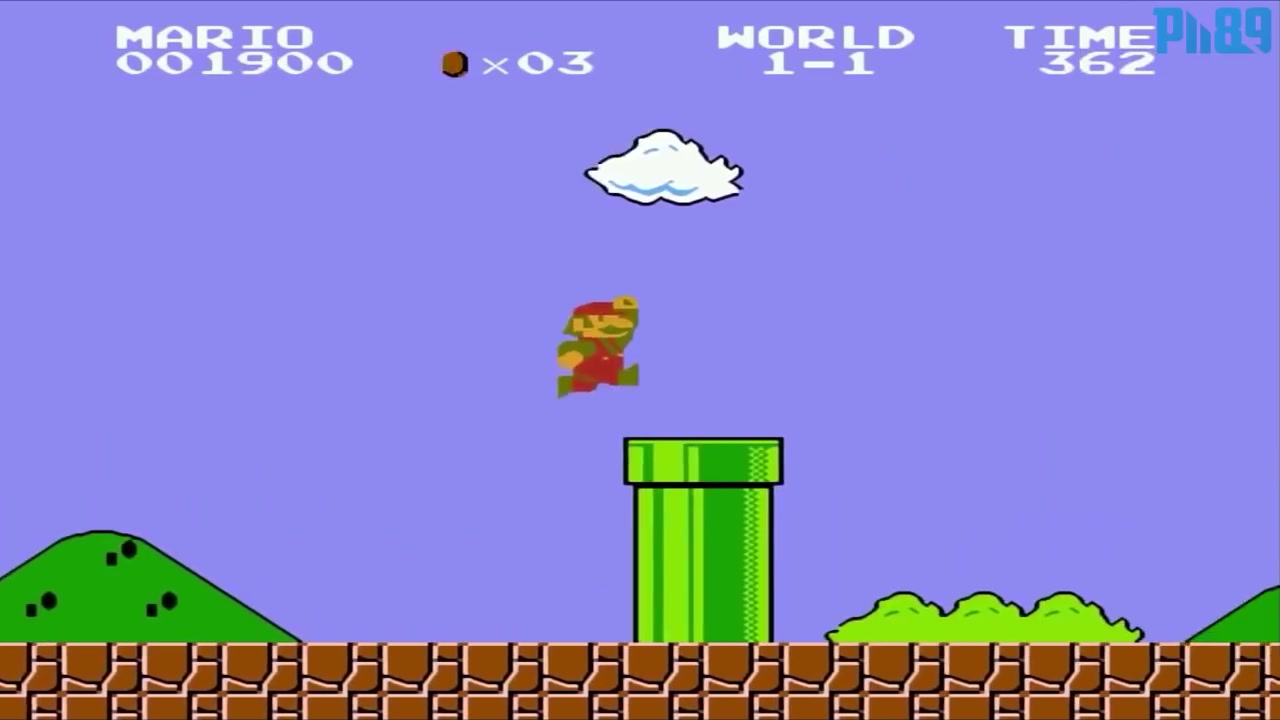mario: (548, 286, 648, 409)
